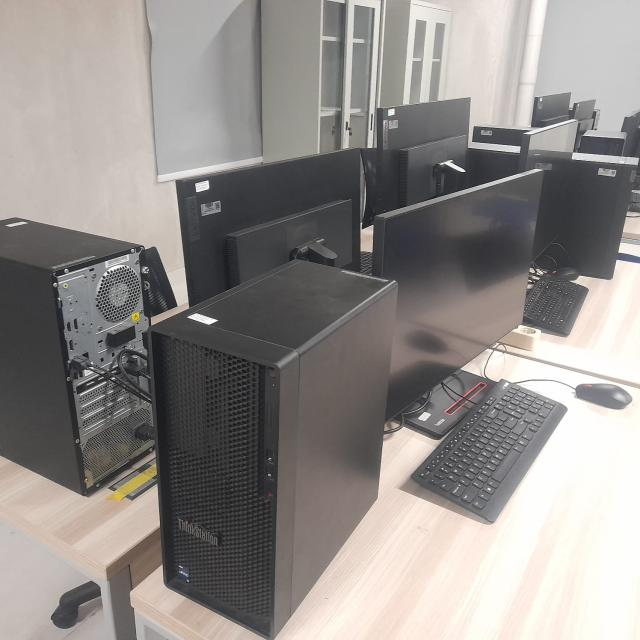keyboard: (410, 379, 568, 524), (522, 272, 589, 337)
monitor: (372, 169, 544, 440), (175, 148, 362, 307), (376, 97, 471, 215), (518, 119, 578, 174), (569, 98, 596, 154), (530, 91, 570, 128), (620, 111, 640, 158)
mouse: (575, 383, 633, 409), (547, 267, 578, 281)
pc: (147, 259, 398, 640), (0, 217, 156, 497), (530, 149, 638, 281), (466, 142, 521, 188), (472, 127, 547, 147), (577, 129, 627, 157)
